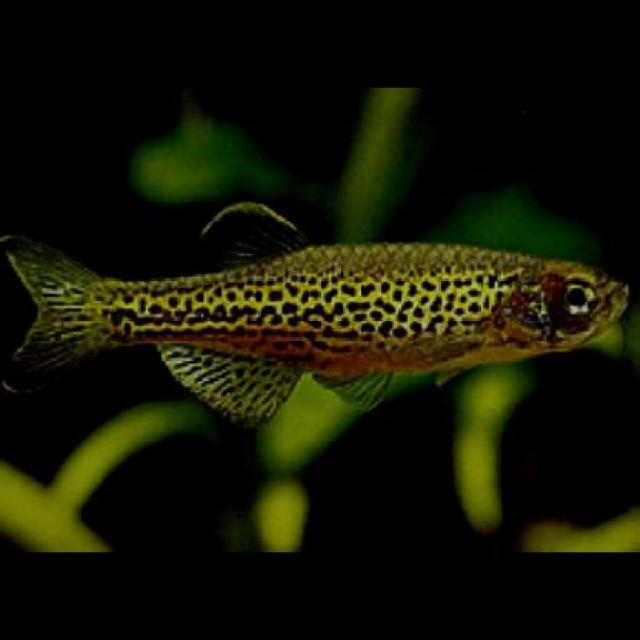ZebraFish: (3, 196, 637, 419)
